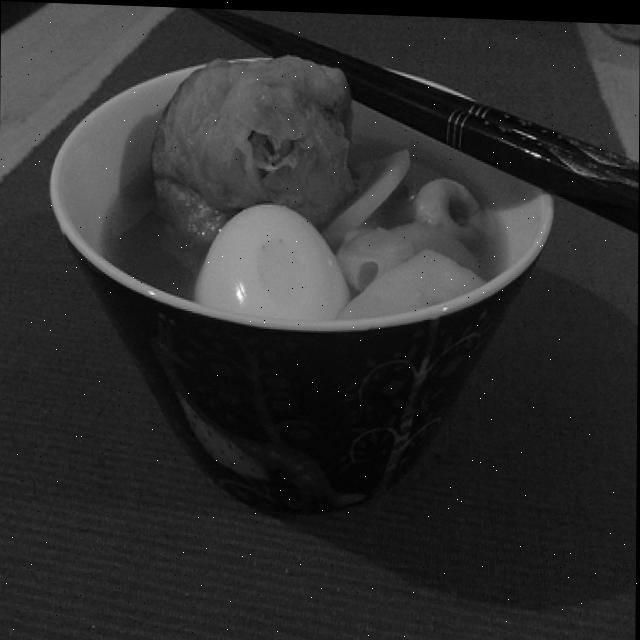汤锅炖物: (146, 42, 493, 336)
